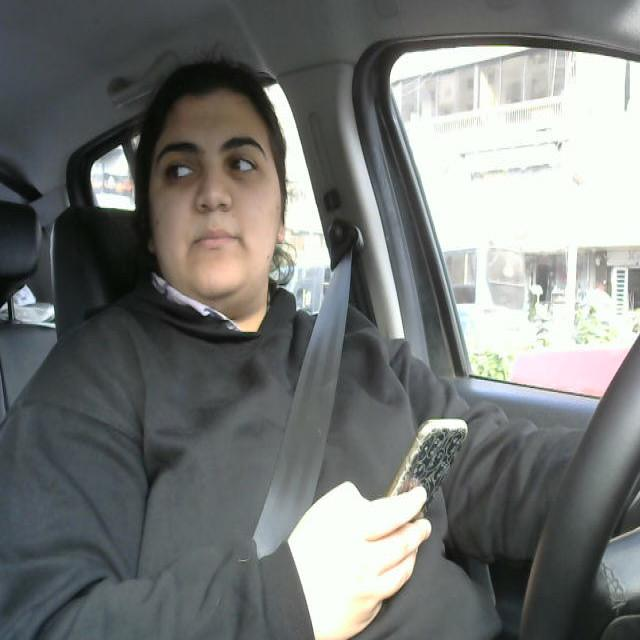mobile use: (381, 414, 472, 504)
